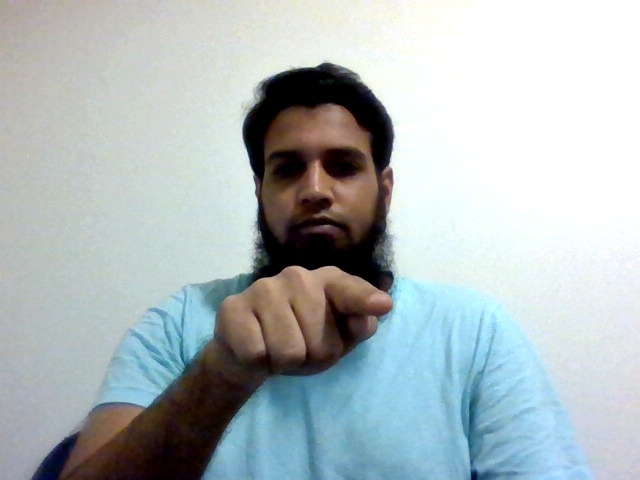you: (211, 260, 397, 381)
